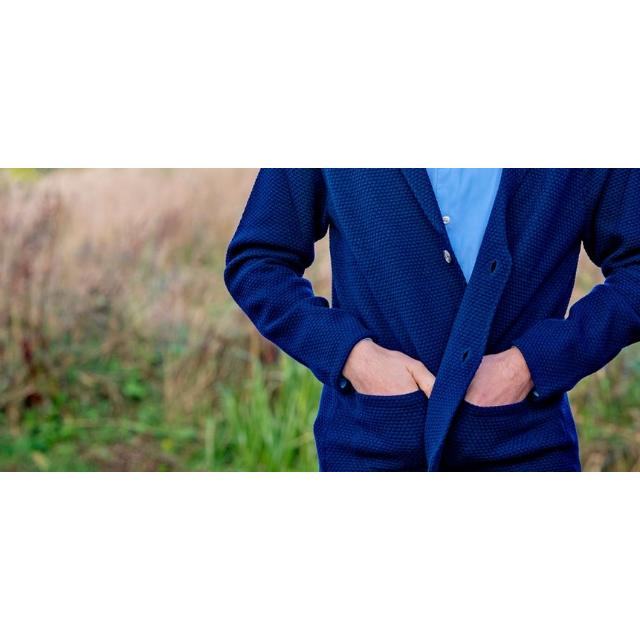wool: (222, 168, 640, 472)
